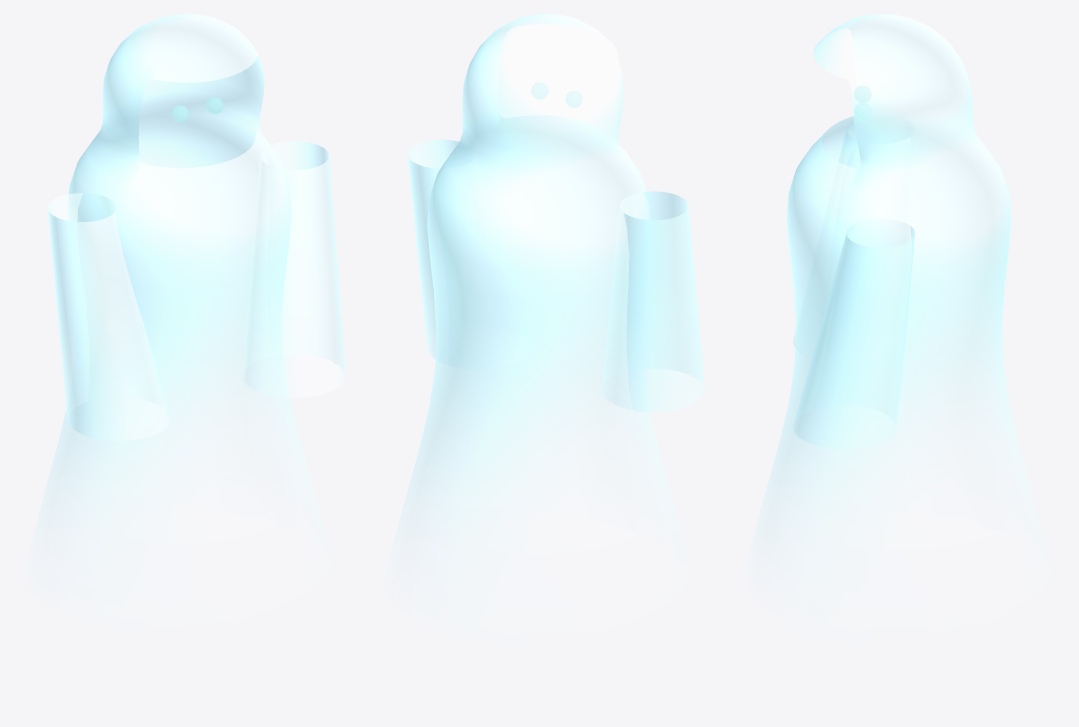
File: fantome.glb
3 views of the same model, side by side, from view 1: azimuth 30°, elevation 25°; view 2: azimuth 150°, elevation 25°; view 3: azimuth 270°, elevation 25° (orthographic).
Visible parts, largest first — view 1: fantome; view 2: fantome; view 3: fantome.
Part boxes in pixels (x1=…): fantome: x1=32, y1=14, x2=345, y2=543; fantome: x1=395, y1=14, x2=704, y2=553; fantome: x1=755, y1=14, x2=1042, y2=549.
Bounding box in the file's own units: 0.9162 × 1.93 × 0.9162.
2 materials, 1 textured.
